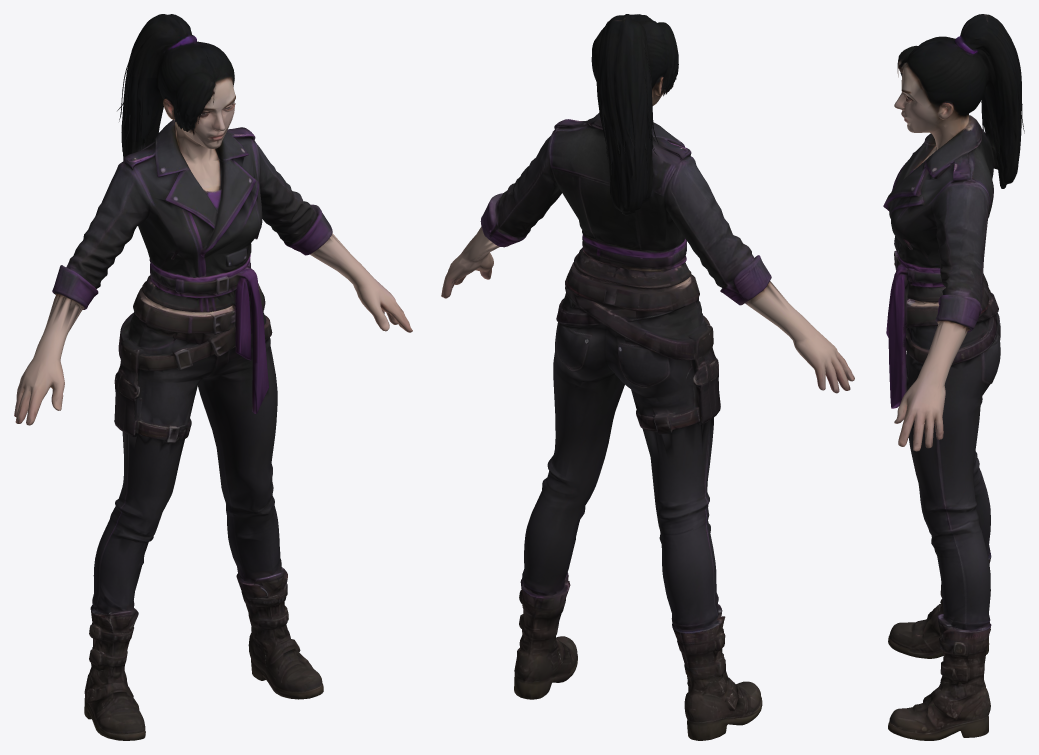
Rendered from assassin.glb.
The picture shows the model from 3 angles, left to right: view 1: azimuth 30°, elevation 25°; view 2: azimuth 150°, elevation 25°; view 3: azimuth 270°, elevation 25°; orthographic projection. The views are drawn at different scales.
Visible parts, largest first — view 1: material; view 2: material; view 3: material.
Boxes of the visible parts, bbox=[...] form: material: bbox=[14, 14, 412, 740]; material: bbox=[441, 14, 854, 740]; material: bbox=[883, 14, 1024, 740].
Bounding box in the file's own units: 1.06 × 1.76 × 0.3359.
Materials: 1 (1 with a texture image).
